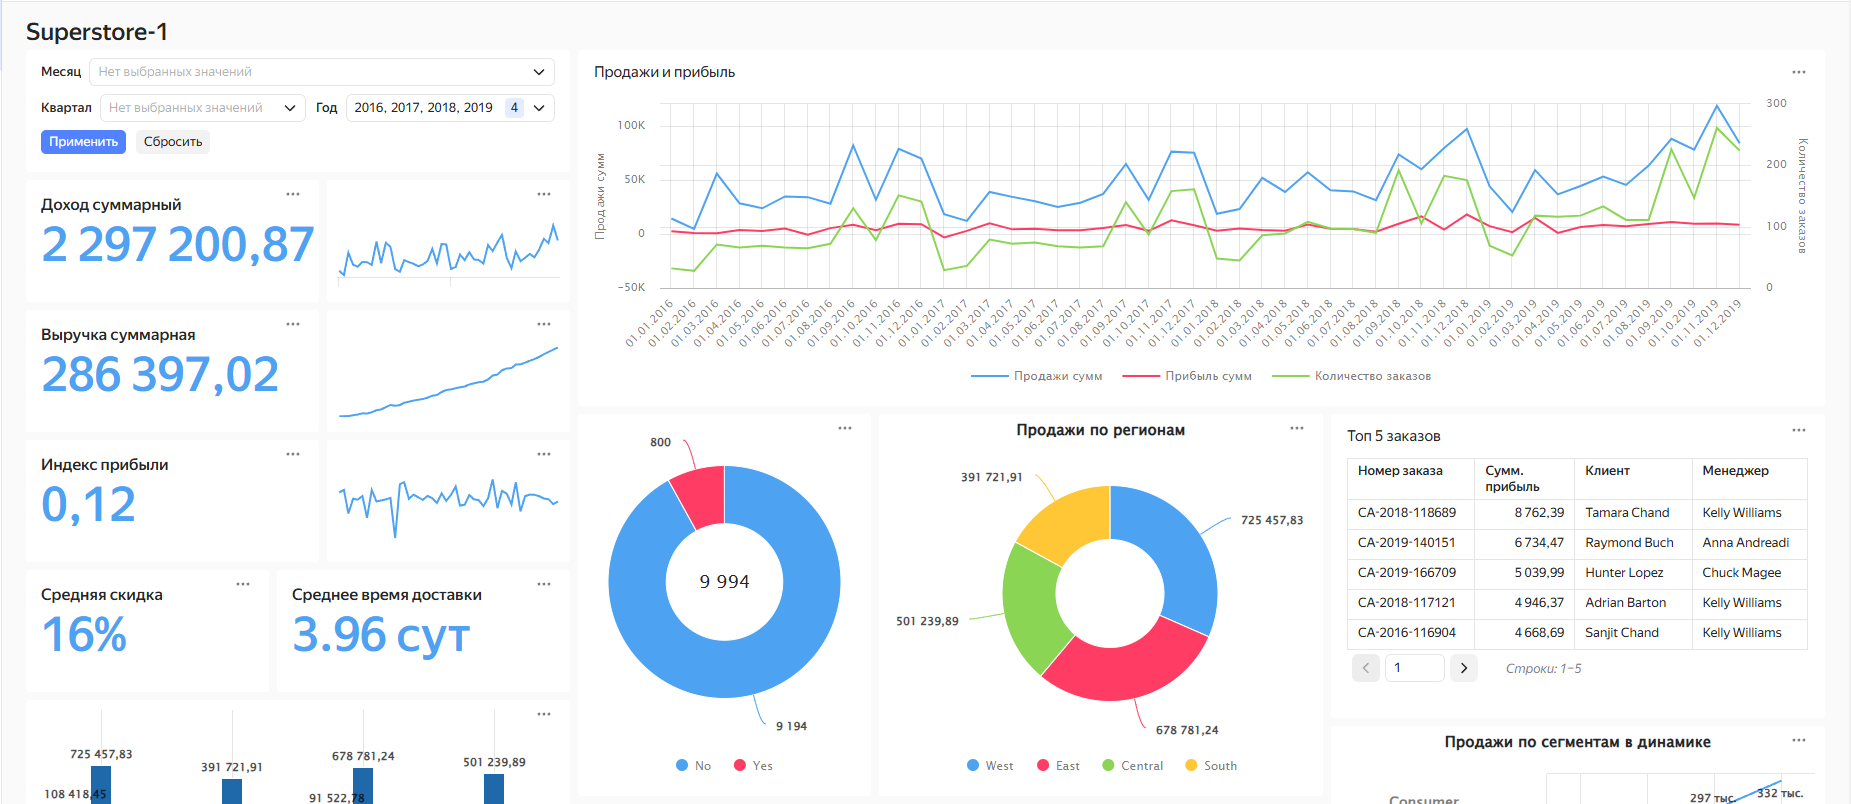

What the dashboard file says about the page in this screenshot:
{"tool":"tableau","page":{"name":"Executive Overview","canvas":[1000,1000],"units":"permille","ordinal":0},"visuals":[{"type":"worksheet","title":"KPI","mark":"Automatic","box":[5.4,8.8,881.6,123.9]},{"type":"filter","title":"profit by Ratio Geography","param":"[federated.0n1ogn31sv5aa011ewm2008q3gva].[none:Region:nk]","box":[887,8.8,107.6,57.5]},{"type":"filter","title":"profit by Ratio Geography","param":"[federated.0n1ogn31sv5aa011ewm2008q3gva].[usr:Calculation_267119792821047296:qk]","box":[887,66.4,107.6,76.3]},{"type":"worksheet","title":"profit by Ratio Geography","mark":"Automatic","box":[5.4,132.7,881.6,367.3]},{"type":"legend","title":"profit by Ratio Geography","param":"[federated.0n1ogn31sv5aa011ewm2008q3gva].[usr:Calculation_267119792821047296:qk]","box":[887,142.7,107.6,71.9]},{"type":"filter","title":"Sales by segment","param":"[federated.0n1ogn31sv5aa011ewm2008q3gva].[tmn:Order Date:qk]","box":[887,214.6,107.6,76.3]},{"type":"legend","title":"Sales by segment","param":"[federated.0n1ogn31sv5aa011ewm2008q3gva].[none:Calculation_267119792828051457:nk","box":[887,290.9,107.6,73]},{"type":"worksheet","title":"Sales by category","mark":"Area","rows":["Category","Sales"],"cols":["Order Date"],"box":[5.4,500,494.6,491.2]},{"type":"worksheet","title":"Sales by segment","mark":"Area","rows":["Segment","Sales"],"cols":["Order Date"],"box":[500,500,494.6,491.2]}]}

Visuals, with their boxes on the dashboard's canvas, which has no fixed pixel size, in thousandths of its width and height (x1, y1, x2, y2). These are canvas units, not pixel positions in the 1851x804 screenshot, which may show the page scaled, cropped or inside an application window:
"KPI" worksheet: [x1=5, y1=9, x2=887, y2=133]
"profit by Ratio Geography" filter: [x1=887, y1=9, x2=995, y2=66]
"profit by Ratio Geography" filter: [x1=887, y1=66, x2=995, y2=143]
"profit by Ratio Geography" worksheet: [x1=5, y1=133, x2=887, y2=500]
"profit by Ratio Geography" legend: [x1=887, y1=143, x2=995, y2=215]
"Sales by segment" filter: [x1=887, y1=215, x2=995, y2=291]
"Sales by segment" legend: [x1=887, y1=291, x2=995, y2=364]
"Sales by category" worksheet (Area marks): [x1=5, y1=500, x2=500, y2=991]
"Sales by segment" worksheet (Area marks): [x1=500, y1=500, x2=995, y2=991]
